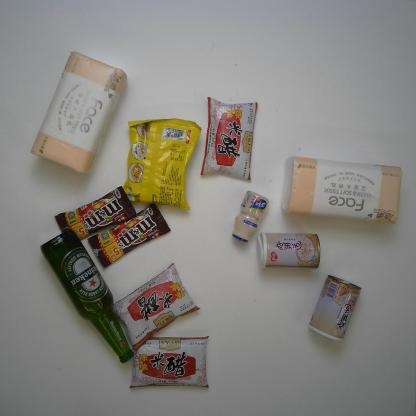Alcohol: (38, 228, 136, 364)
Canned Food: (308, 273, 363, 343), (256, 232, 322, 270)
Chocolate: (85, 202, 172, 270), (53, 185, 137, 241)
Instant Noodles: (122, 117, 203, 212)
Milk: (231, 190, 271, 244)
Seasoner: (113, 262, 201, 354), (200, 96, 259, 182), (128, 334, 210, 389)
Tissue: (29, 50, 129, 175), (279, 154, 404, 224)
